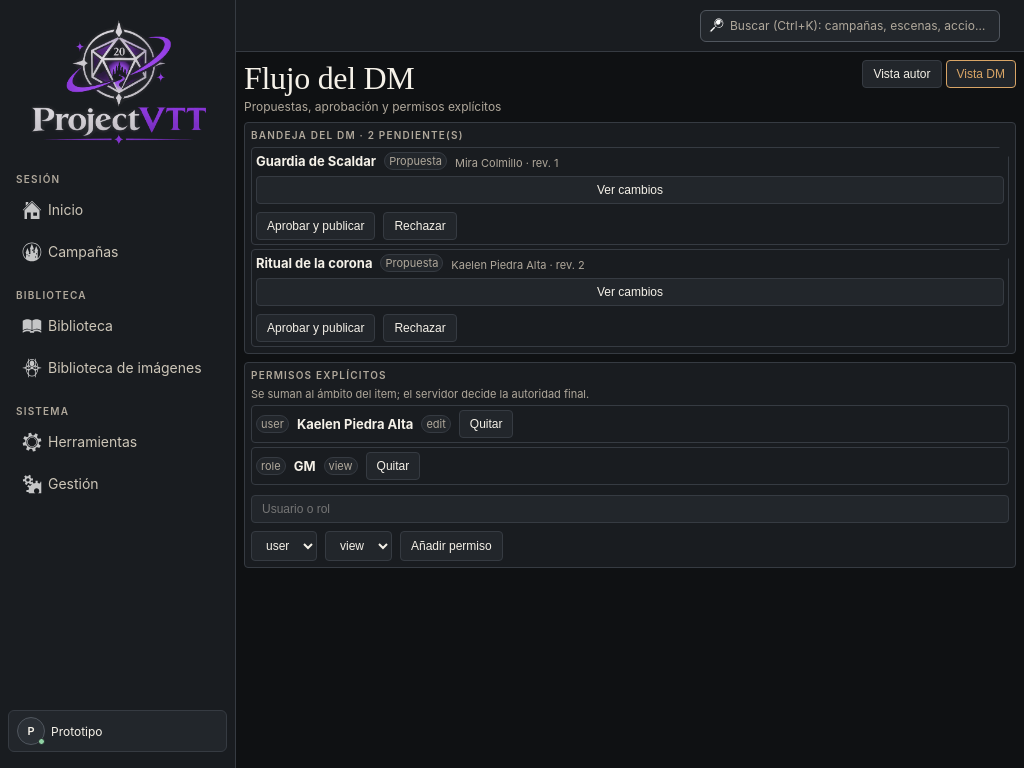
Prototipo flujo del DM (PMB-4.8) › el autor propone un borrador y el DM puede rechazarlo
Click the button "Vista autor" at (902,74), box [862,60,942,88]
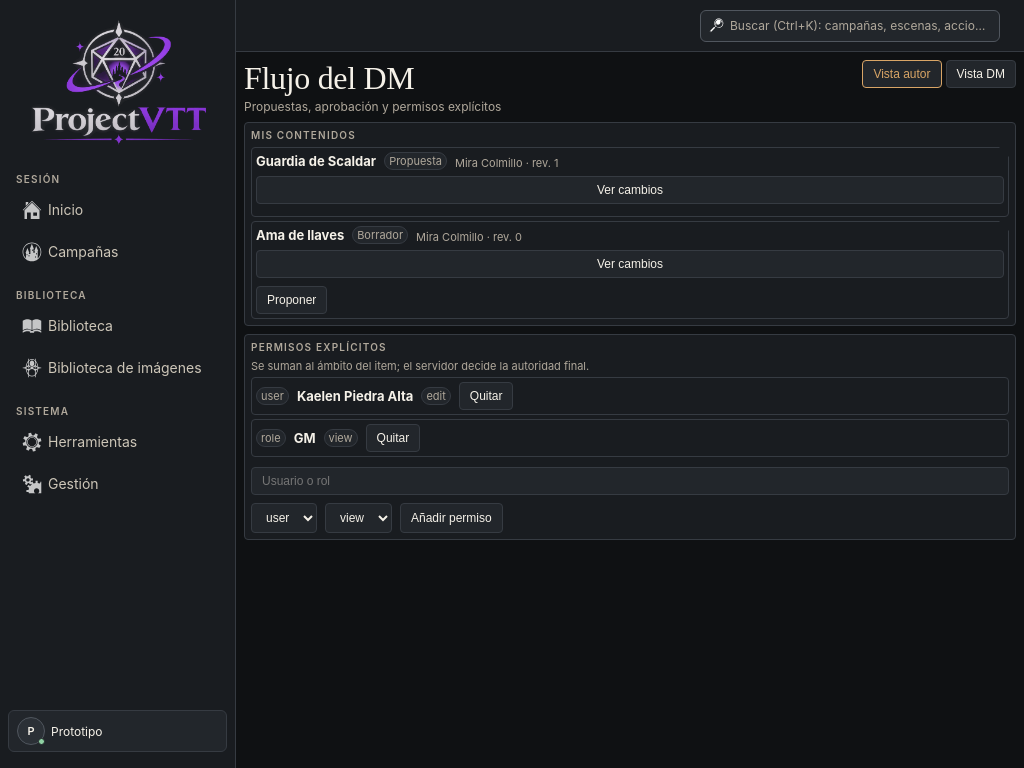
Click the button "Proponer" at (292,300), box [256,286,327,314]
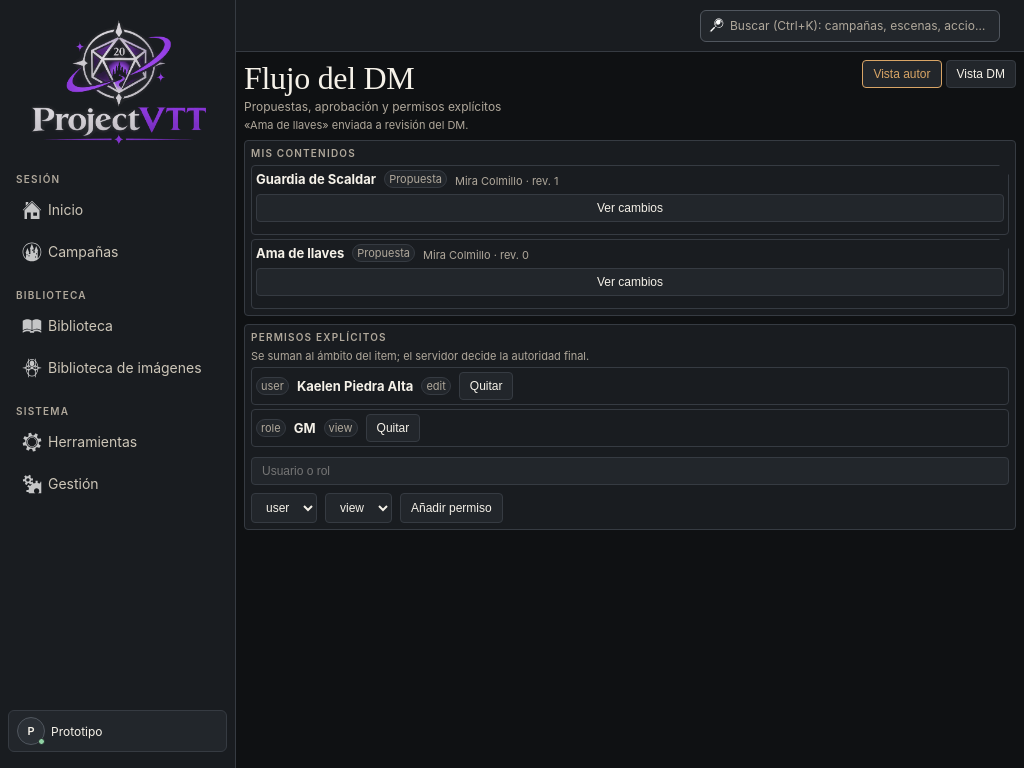
Expected: the message shows "enviada a revisión", [244,118,468,132]
Click the button "Vista DM" at (981,74), box [946,60,1016,88]
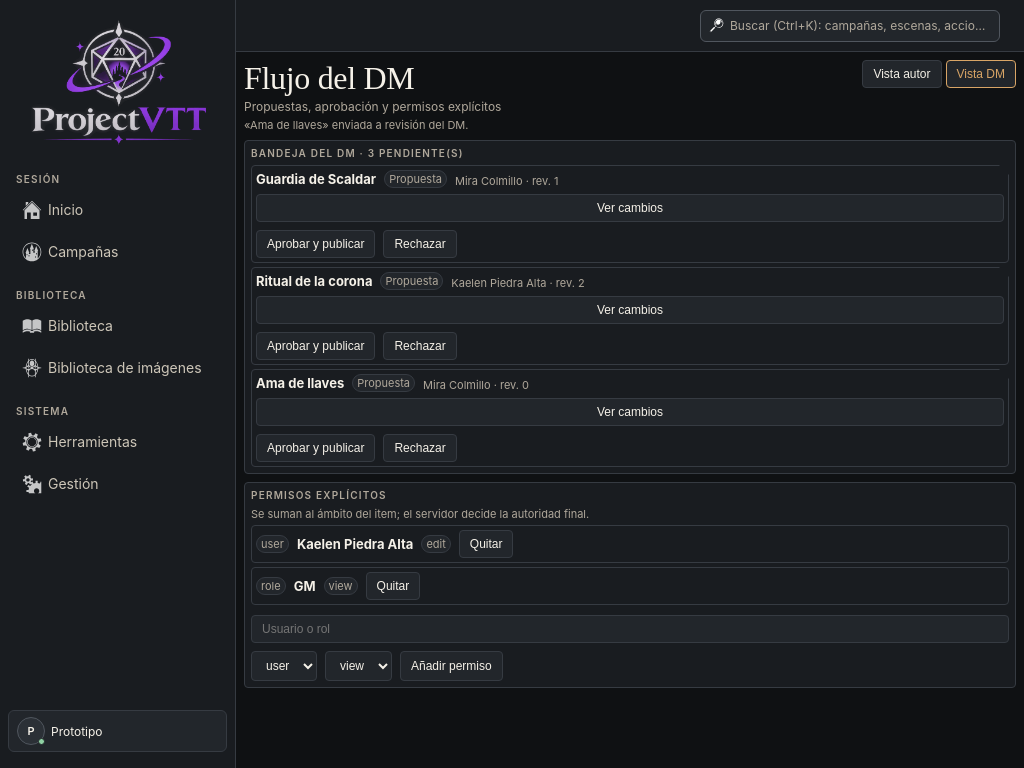
Expected: the heading "Bandeja del DM · 3 pendiente(s)" is shown, [251,147,464,159]
Click the 3rd button "Rechazar" at (420,448), box [383,434,457,462]
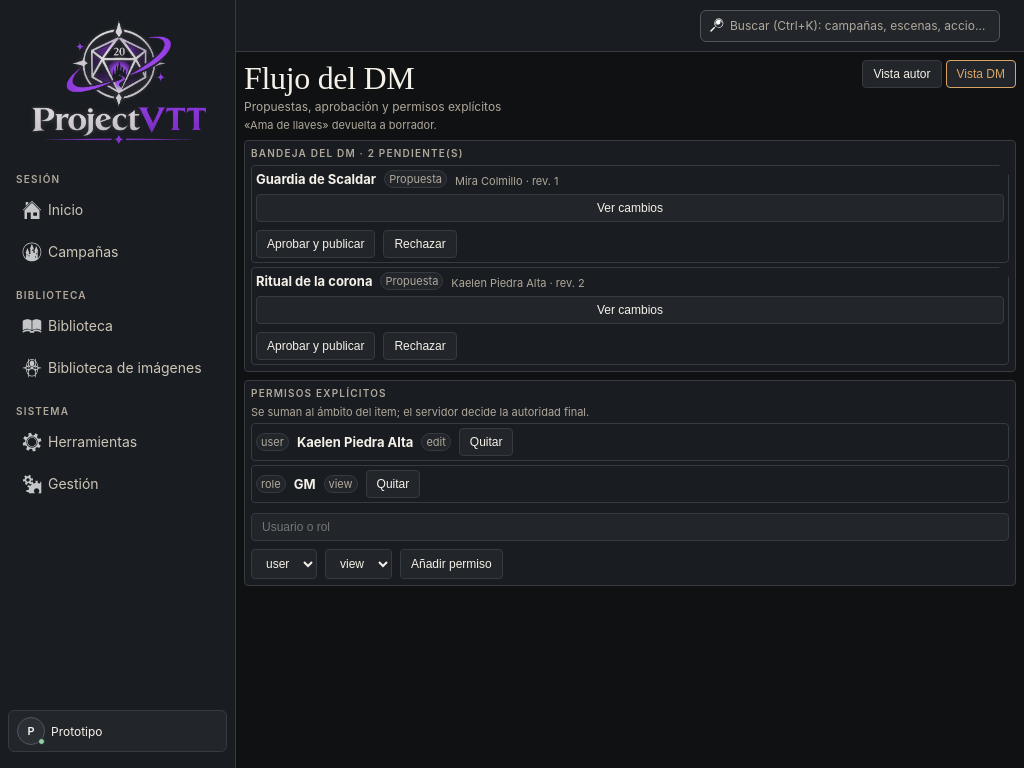
Expected: the heading "Bandeja del DM · 2 pendiente(s)" is shown, [251,147,464,159]
